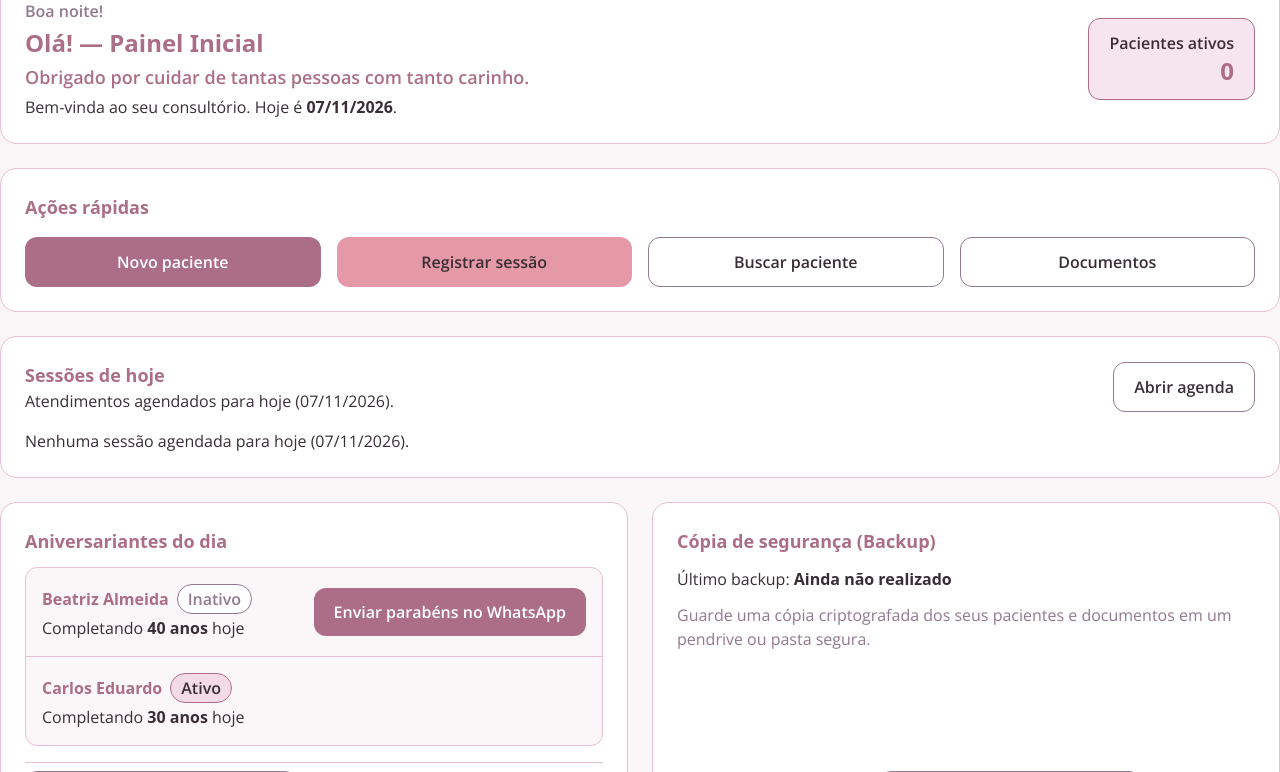
Painel Inicial T04 (F2-T3) › exibe aniversariantes do dia (incluindo inativos) e próximos 7 dias, e abre o WhatsApp apenas ao clicar em 'Enviar parabéns no WhatsApp' (F5-T2 — RN30, RN31, RN
Expected: the list item with test id "aniversariante-hoje-p-inativa-hoje" shows "Beatriz Almeida", [42,587,169,611]
Expected: the list item with test id "aniversariante-hoje-p-inativa-hoje" shows "Inativo", [188,588,241,610]
Click the button with test id "whatsapp-parabens-p-inativa-hoje" at [450, 612], box [314,588,586,636]
(page scrolled)
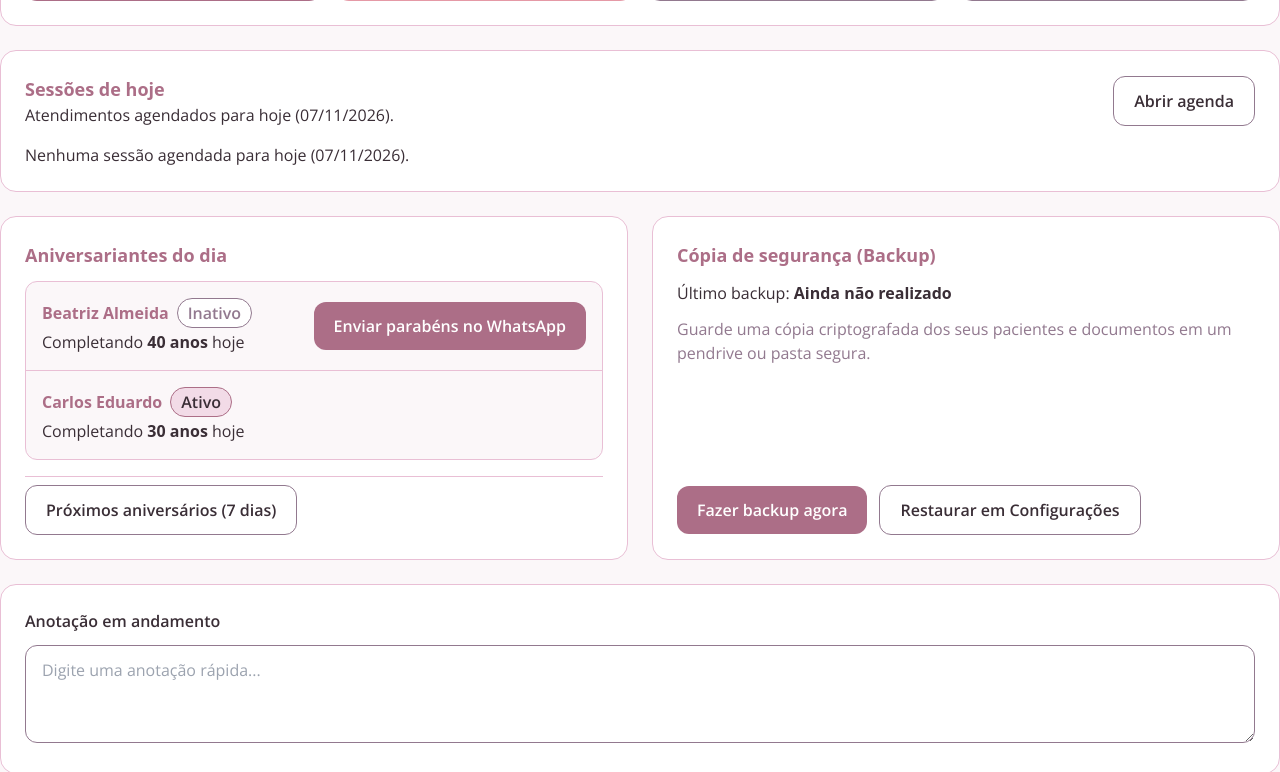
# Expandir "Próximos aniversários (7 dias)" exibe Daniela Souza (RN34)
Click the button "Próximos aniversários (7 dias)" at [161, 510], box [25,485,297,535]
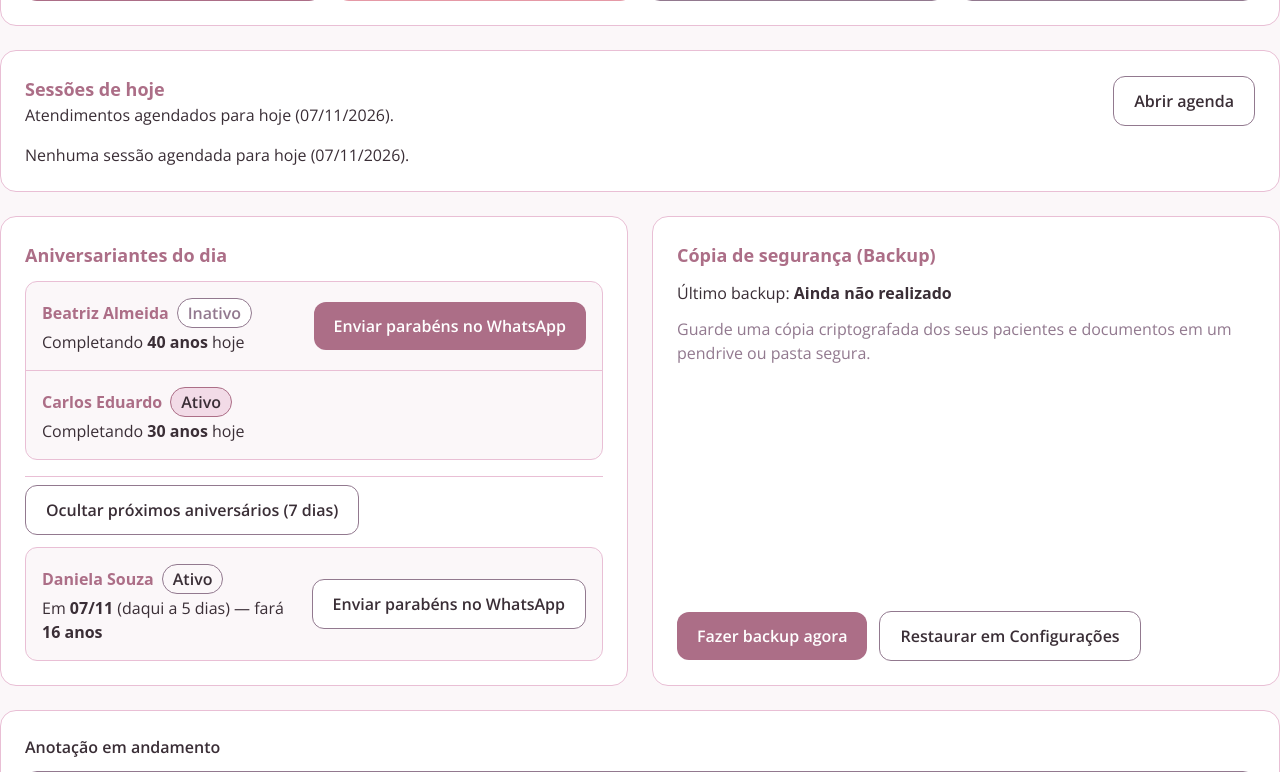
Result: the list item with test id "aniversariante-proximo-p-proxima-5d" shows "Daniela Souza" at [42,567,154,591]
Result: the list item with test id "aniversariante-proximo-p-proxima-5d" shows "daqui a 5 dias" at [42,564,586,644]
Result: the list item with test id "aniversariante-proximo-p-proxima-5d" shows "16 anos" at [42,564,586,644]
